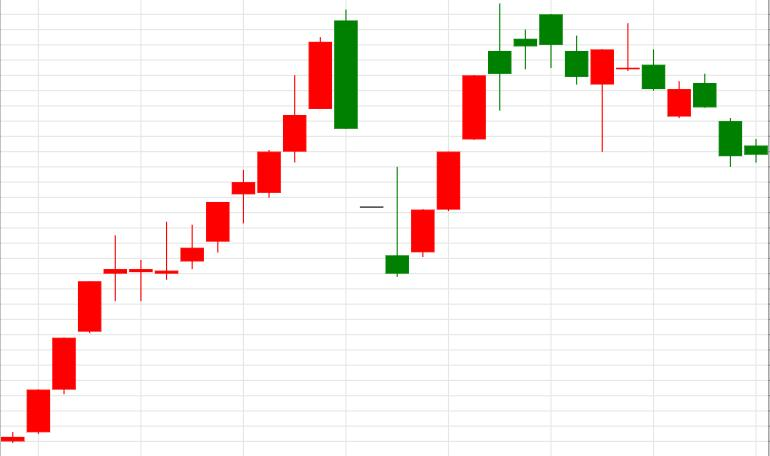bearish_engulfing_fall: (1, 11, 357, 444)
three_white_soldiers_rise: (335, 11, 486, 278)
